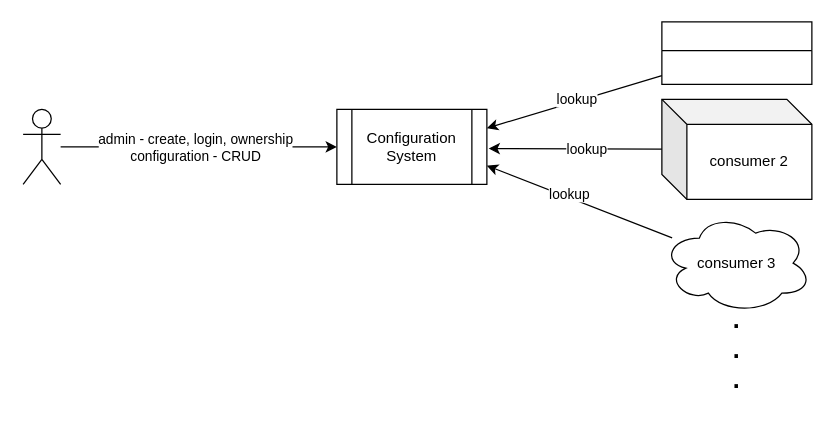
This 834x445 diagram has some shape labels left out. Here are the shapes that lost their labels. From the top down, the centre of each, then its label:
(x=736, y=52): Consumer 1
(x=41, y=146): admin
